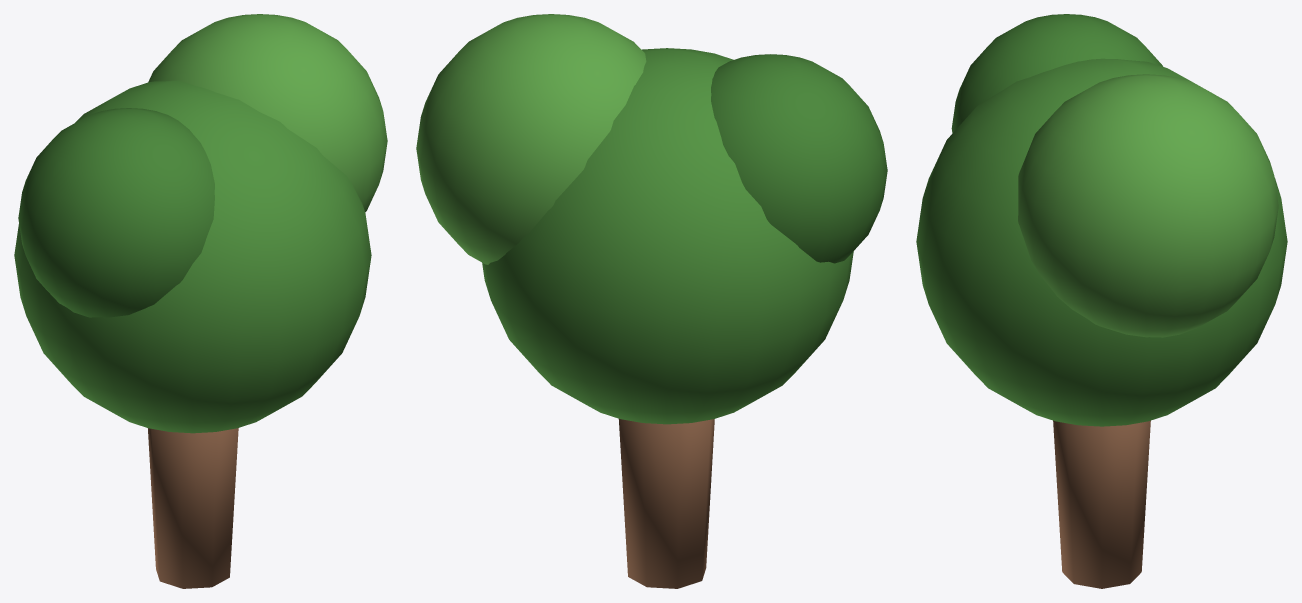
The model's file is e_tree.glb.
3 views of the same model, side by side, from view 1: azimuth 30°, elevation 25°; view 2: azimuth 150°, elevation 25°; view 3: azimuth 270°, elevation 25° (orthographic). The views are drawn at different scales.
Parts seen in each view (by area): view 1: et_c0.005, et_c2.005, et_c1.005, et_trunk.005; view 2: et_c0.005, et_c1.005, et_c2.005, et_trunk.005; view 3: et_c1.005, et_c0.005, et_trunk.005, et_c2.005.
Boxes of the visible parts, box(x1,y1,x2,y2) form: et_c0.005: box(14, 80, 371, 433); et_c2.005: box(18, 108, 214, 317); et_c1.005: box(148, 14, 387, 212); et_trunk.005: box(148, 428, 238, 588); et_c0.005: box(482, 48, 853, 424); et_c1.005: box(416, 14, 646, 264); et_c2.005: box(711, 54, 887, 263); et_trunk.005: box(618, 419, 714, 588); et_c1.005: box(1018, 74, 1278, 337); et_c0.005: box(916, 58, 1287, 426); et_trunk.005: box(1053, 420, 1150, 588); et_c2.005: box(951, 14, 1162, 133).
Size of the model in its own units: 1.02 by 1.32 by 0.84.
